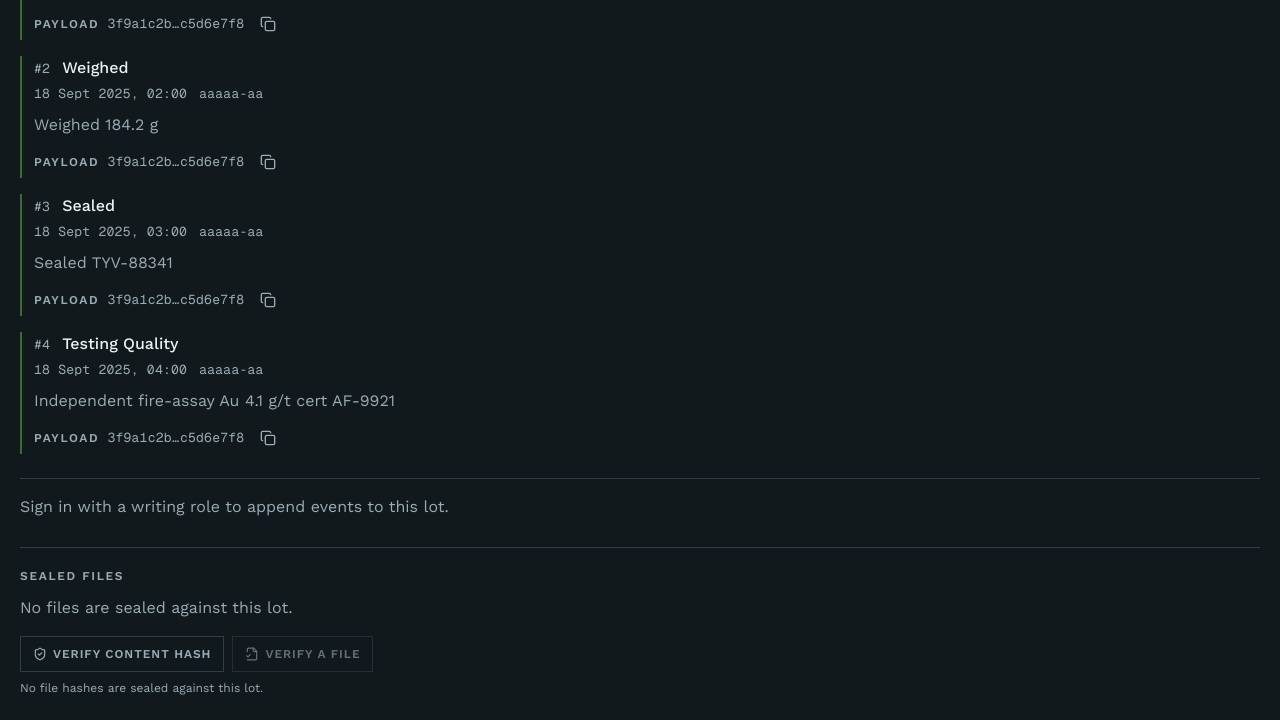
Test: Expanded lot block › reports a mismatch when the snapshot recomputes to a different hash
(page scrolled)
Click the button with test id "lot.verify_snapshot_button". click: (122, 654)
box: [20,636,224,672]
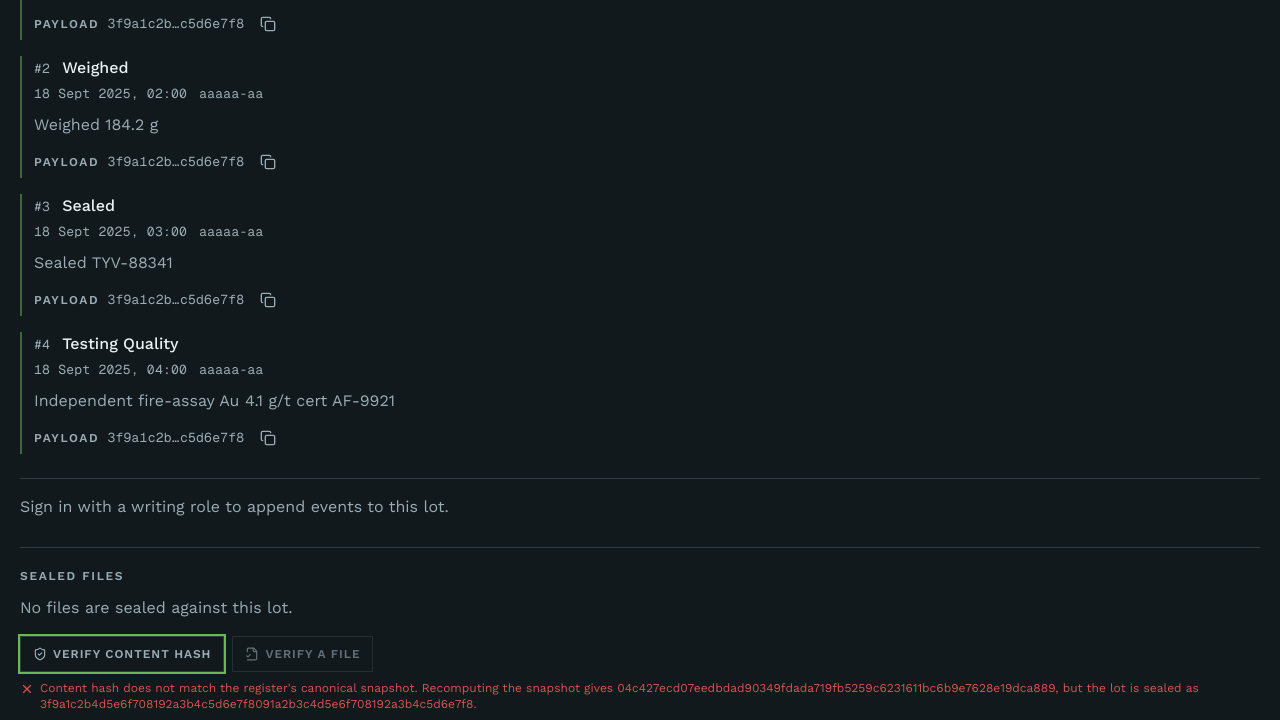
Expected: the element with test id "lot.verify_snapshot_state" shows "does not match the register's canonical snapshot", [40,681,1199,711]
